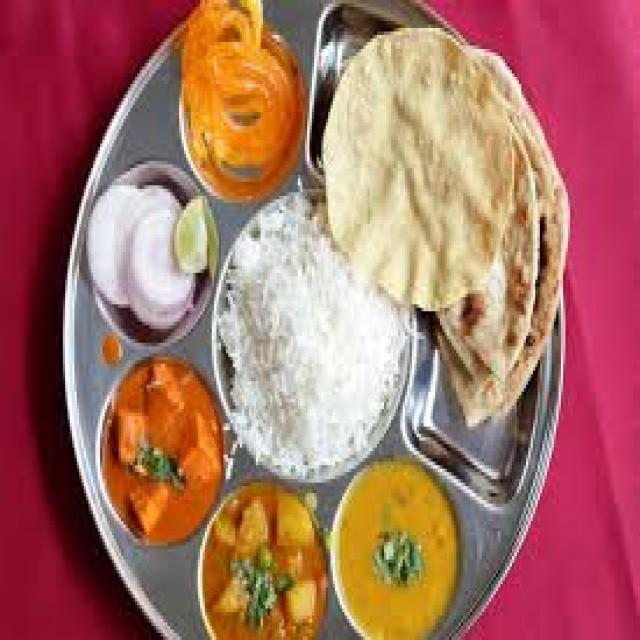curd: (75, 175, 219, 346)
dal: (339, 447, 476, 640)
rice: (217, 225, 403, 477)
sweet: (82, 187, 220, 339)
veg-fry: (94, 350, 224, 545)
